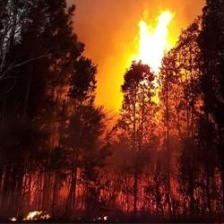fire: (140, 9, 173, 75), (18, 210, 52, 220)
